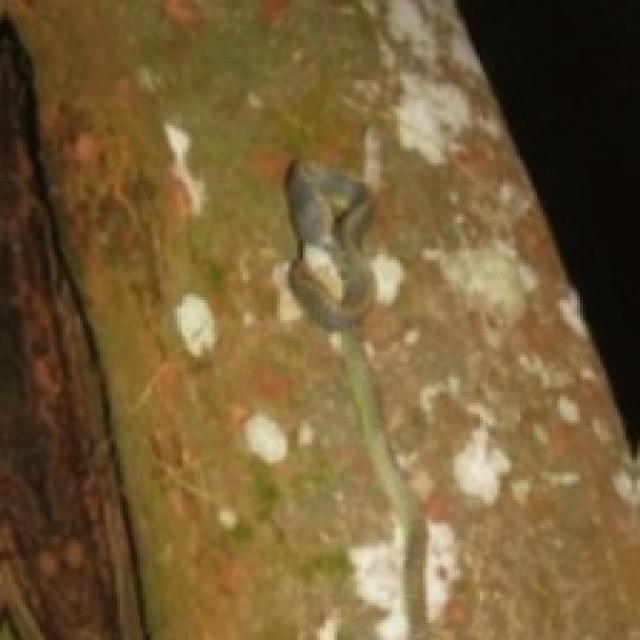paradise tree snake: (286, 160, 426, 637), (286, 163, 371, 329)
